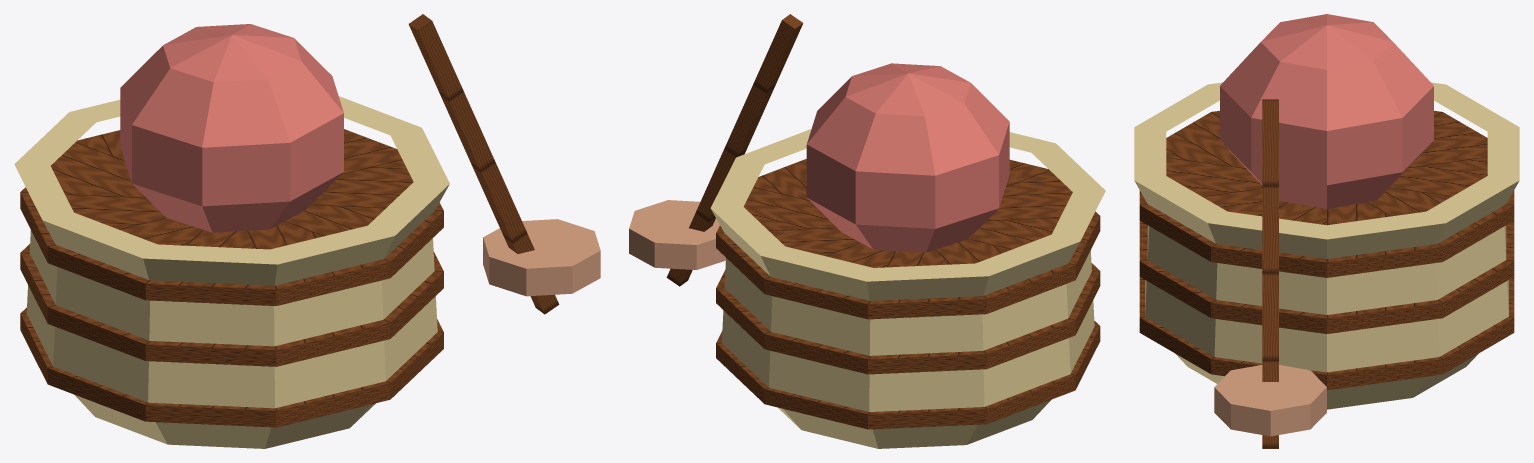
Rendered from andean-terraces-and-stone-village-spindle-and-wool-bas-b3eccf09__38269.glb.
3 views of the same model, side by side, from view 1: azimuth 30°, elevation 25°; view 2: azimuth 150°, elevation 25°; view 3: azimuth 270°, elevation 25° (orthographic). The views are drawn at different scales.
Visible parts, largest first — view 1: spindle-and-wool-basket-thatch, spindle-and-wool-basket-timber, spindle-and-wool-basket-cloth, spindle-and-wool-basket-clay; view 2: spindle-and-wool-basket-thatch, spindle-and-wool-basket-timber, spindle-and-wool-basket-cloth, spindle-and-wool-basket-clay; view 3: spindle-and-wool-basket-thatch, spindle-and-wool-basket-timber, spindle-and-wool-basket-cloth, spindle-and-wool-basket-clay.
Part boxes in pixels (x1,y1,x2,y2): spindle-and-wool-basket-thatch: [14, 96, 449, 448]; spindle-and-wool-basket-timber: [20, 14, 559, 427]; spindle-and-wool-basket-cloth: [120, 24, 343, 232]; spindle-and-wool-basket-clay: [483, 219, 600, 296]; spindle-and-wool-basket-thatch: [710, 129, 1105, 448]; spindle-and-wool-basket-timber: [666, 14, 1100, 429]; spindle-and-wool-basket-cloth: [806, 63, 1009, 252]; spindle-and-wool-basket-clay: [629, 200, 725, 269]; spindle-and-wool-basket-thatch: [1134, 82, 1519, 409]; spindle-and-wool-basket-timber: [1139, 99, 1514, 448]; spindle-and-wool-basket-cloth: [1220, 14, 1433, 208]; spindle-and-wool-basket-clay: [1214, 365, 1326, 436].
Bounding box in the file's own units: 0.99 × 0.632 × 0.6848.
Materials: 4 (1 with a texture image).
